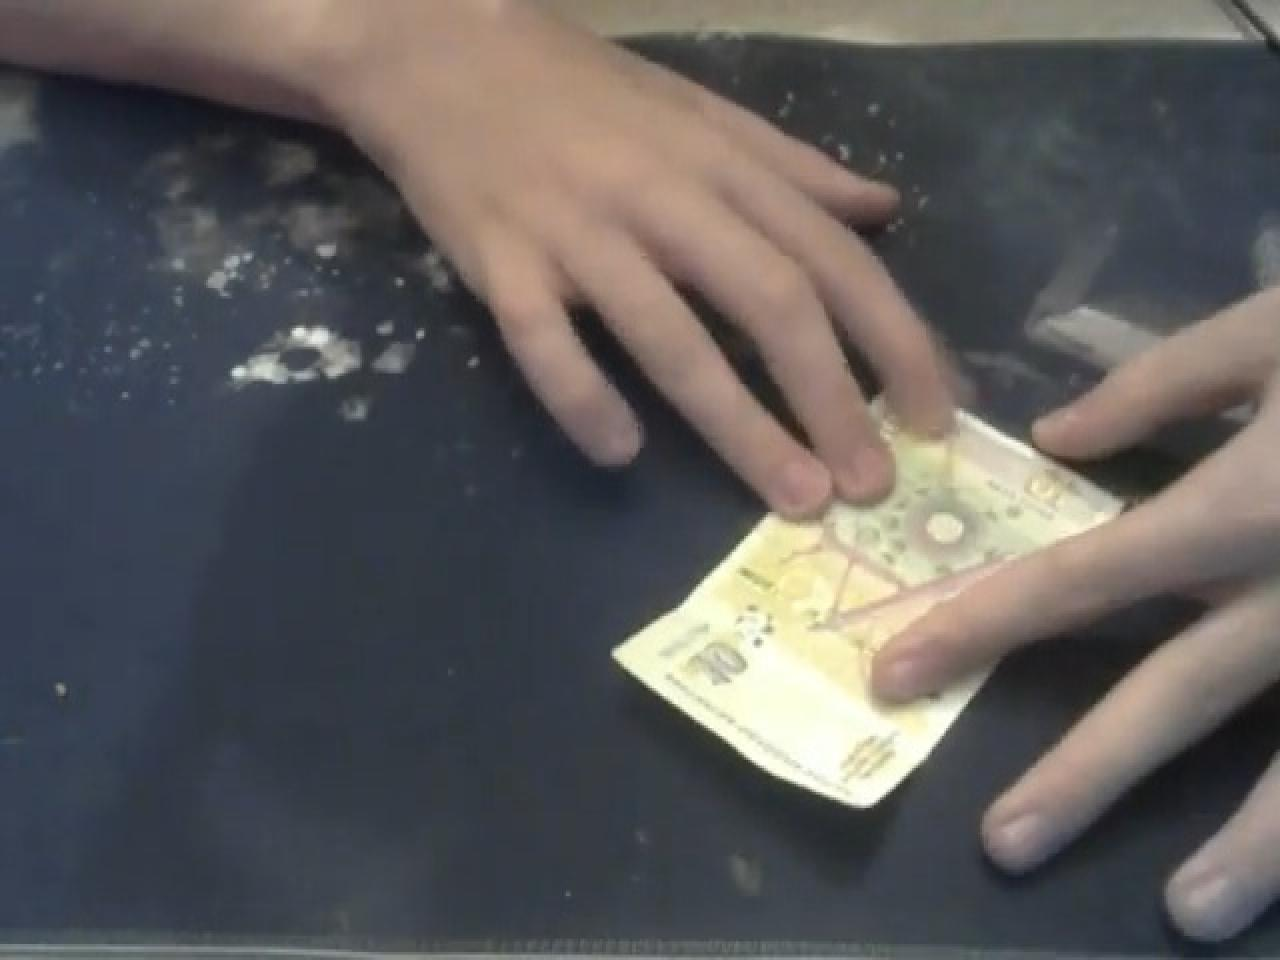10leva: (612, 410, 1130, 819)
